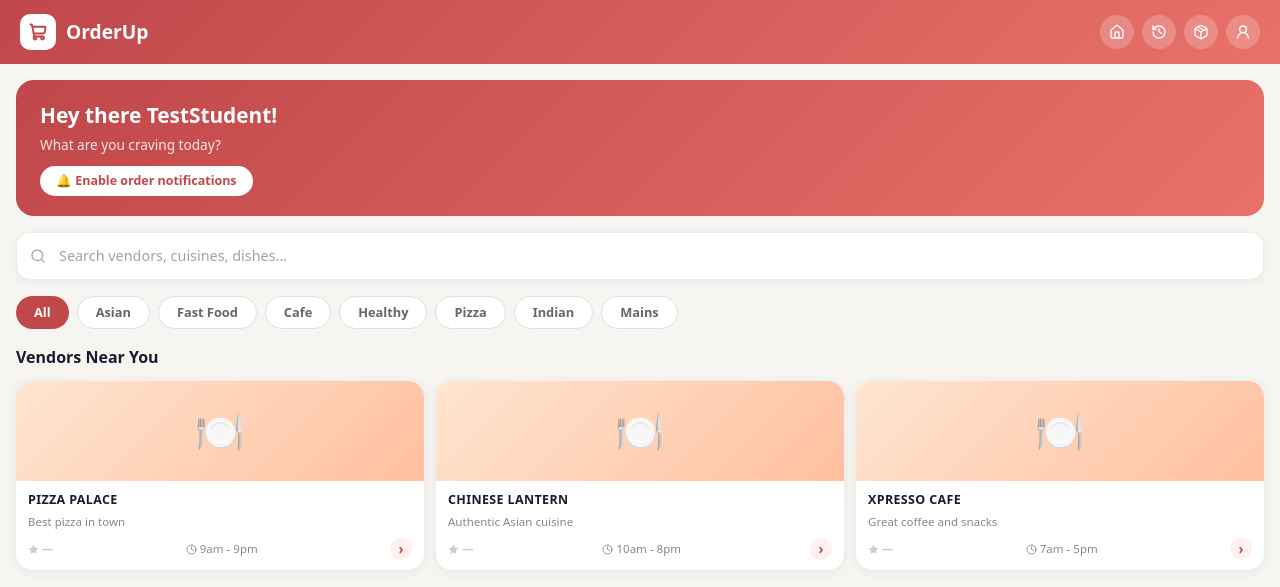
StudentDashboard › filters to only Pizza vendors when Pizza chip is clicked
Expected: the heading "Pizza Palace" is shown, [28,491,118,508]
Click the button "Pizza": (471, 312) [436,296,506,329]
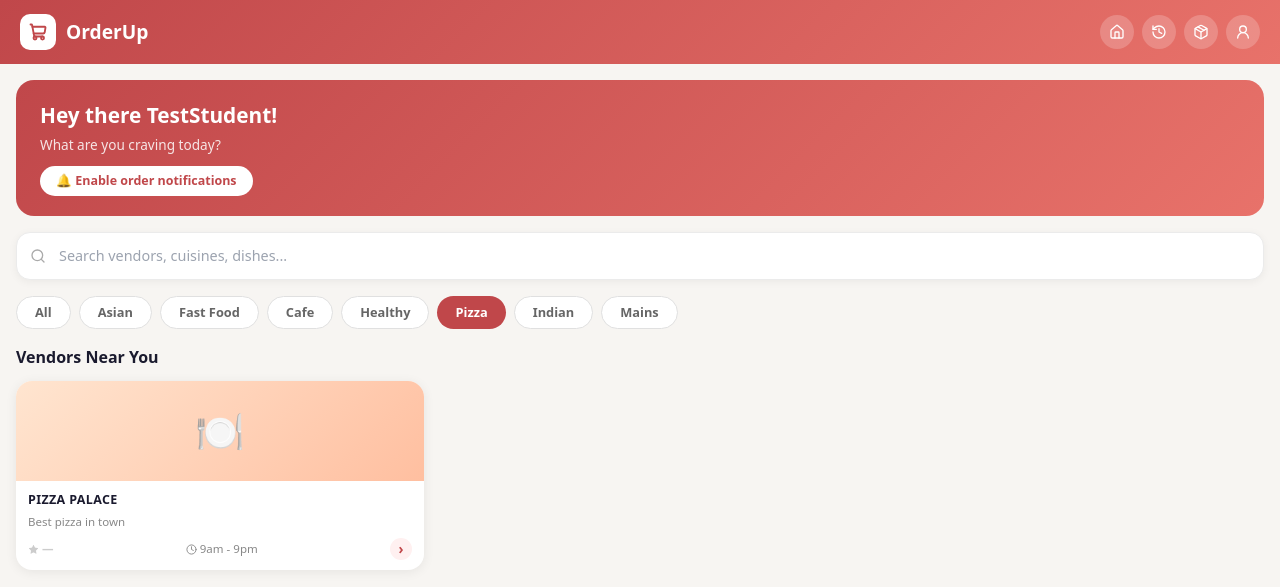
Expected: the heading "Pizza Palace" is shown, [28,491,118,508]
Expected: the heading "Chinese Lantern" is gone
Expected: the heading "Xpresso Cafe" is gone
